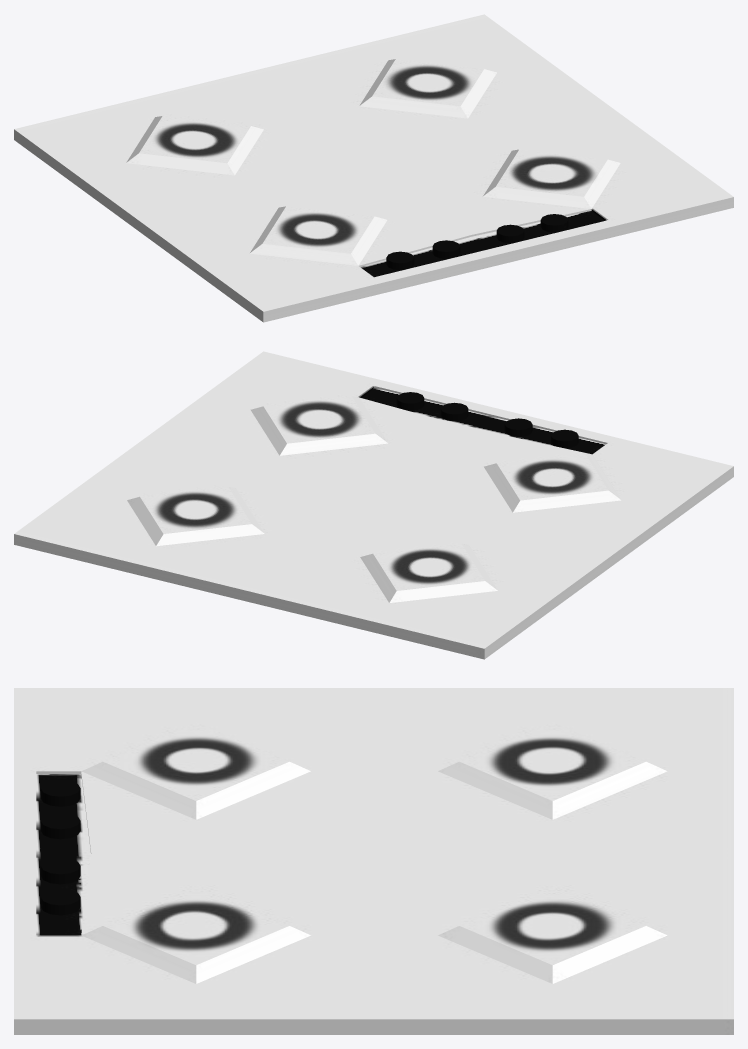
The model's file is fornello.FBX.
3 renders of one model, top to bottom at view 1: azimuth 30°, elevation 25°; view 2: azimuth 150°, elevation 25°; view 3: azimuth 270°, elevation 25°, orthographic. The views are drawn at different scales.
Visible parts, largest first — view 1: Cylinder001; view 2: Cylinder001; view 3: Cylinder001.
Part boxes in pixels (x1=…): Cylinder001: x1=14, y1=14, x2=733, y2=322; Cylinder001: x1=14, y1=351, x2=733, y2=659; Cylinder001: x1=14, y1=688, x2=733, y2=1034.
Size of the model in its own units: 0.6133 by 0.0218 by 0.5633.
